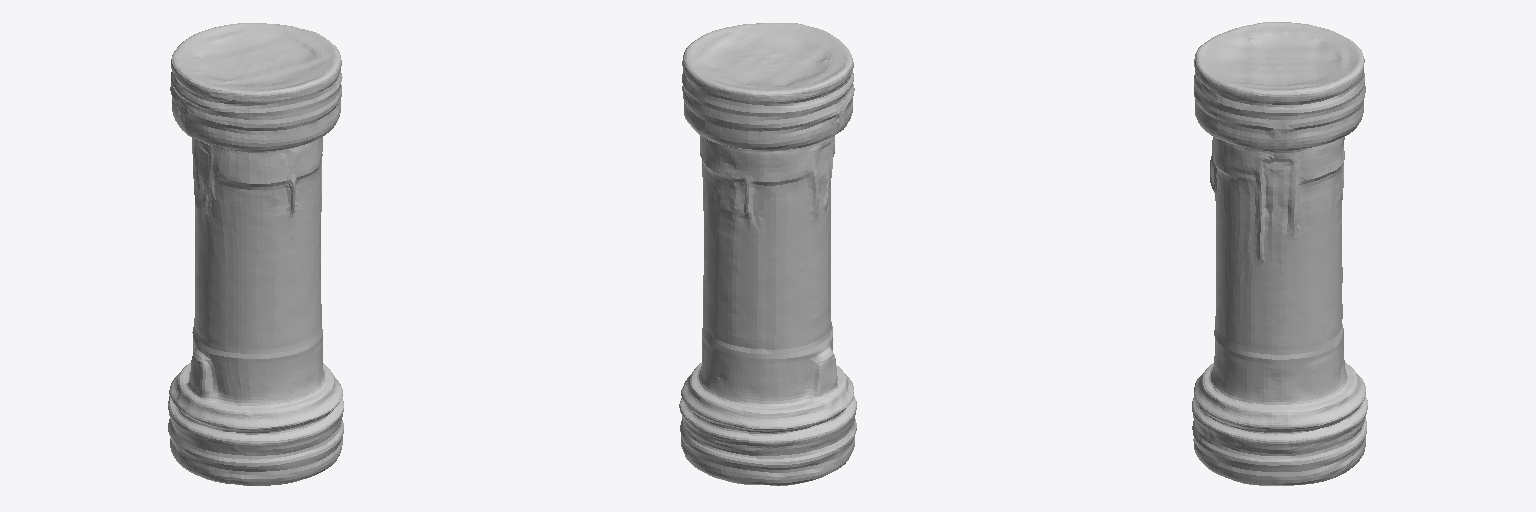
The model's file is 0fa0bde9d380_sci_fi_glass_indust.obj.
3 views of the same model, side by side, from view 1: azimuth 30°, elevation 25°; view 2: azimuth 150°, elevation 25°; view 3: azimuth 270°, elevation 25° (orthographic).
Parts seen in each view (by area): view 1: mesh; view 2: mesh; view 3: mesh.
Boxes of the visible parts, <box> form: mesh: <box>168,23,343,485</box>; mesh: <box>679,23,856,485</box>; mesh: <box>1192,22,1367,485</box>.
Bounding box in the file's own units: 0.3961 × 0.9993 × 0.3997.